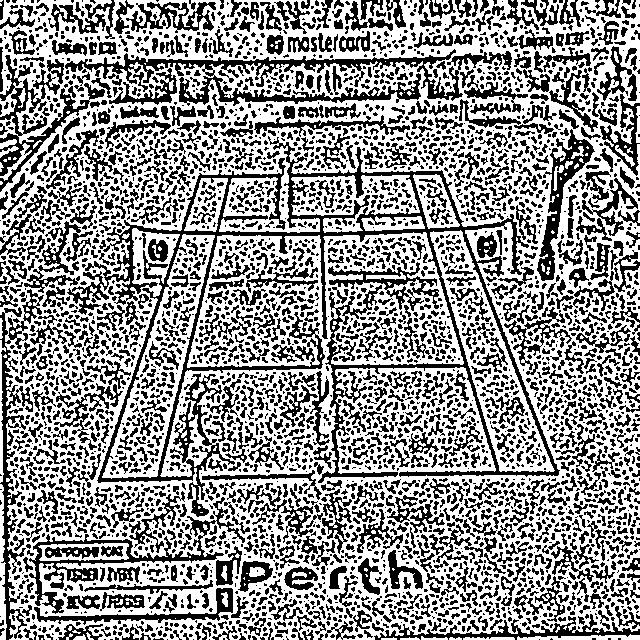left side: (410, 173, 557, 475), (99, 176, 231, 481)
player: (309, 336, 343, 483), (186, 380, 212, 518), (346, 144, 368, 242), (274, 147, 294, 254)
